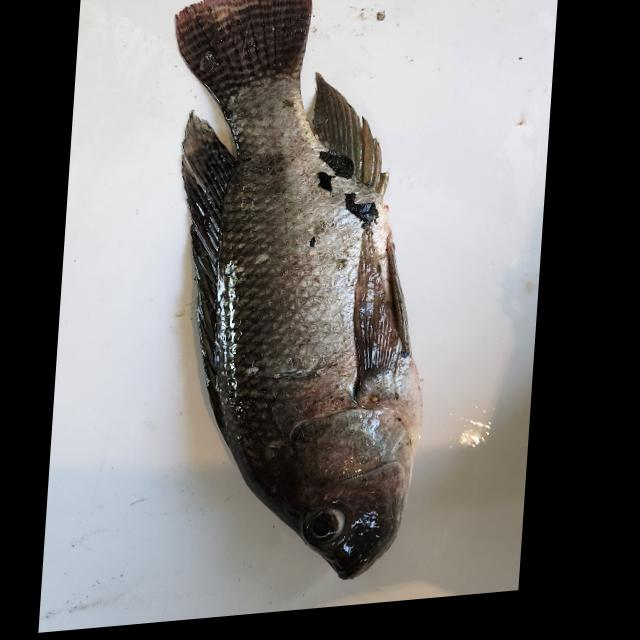Tilapia: (131, 0, 447, 600)
